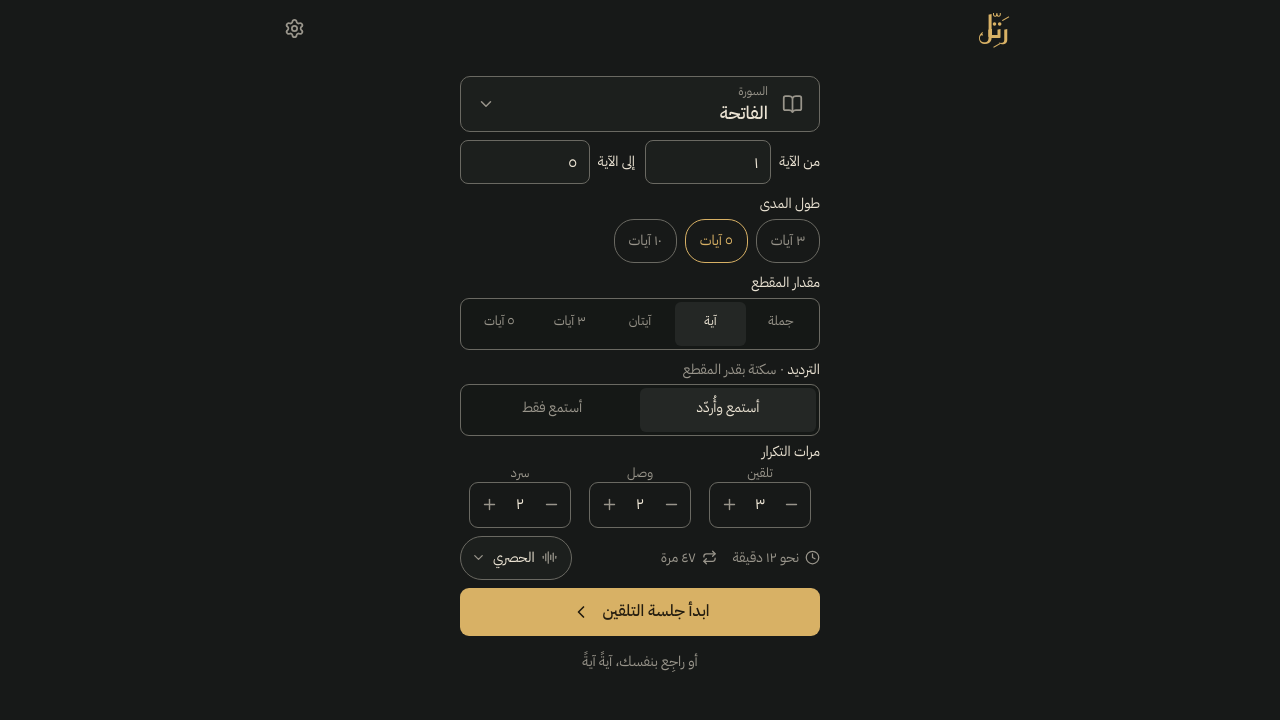
Test: the settings sheet › gives every visible control a name, keeps every id unique, and dims no text
Click the button named "الإعدادات" at (294,28), box [272,6,316,50]
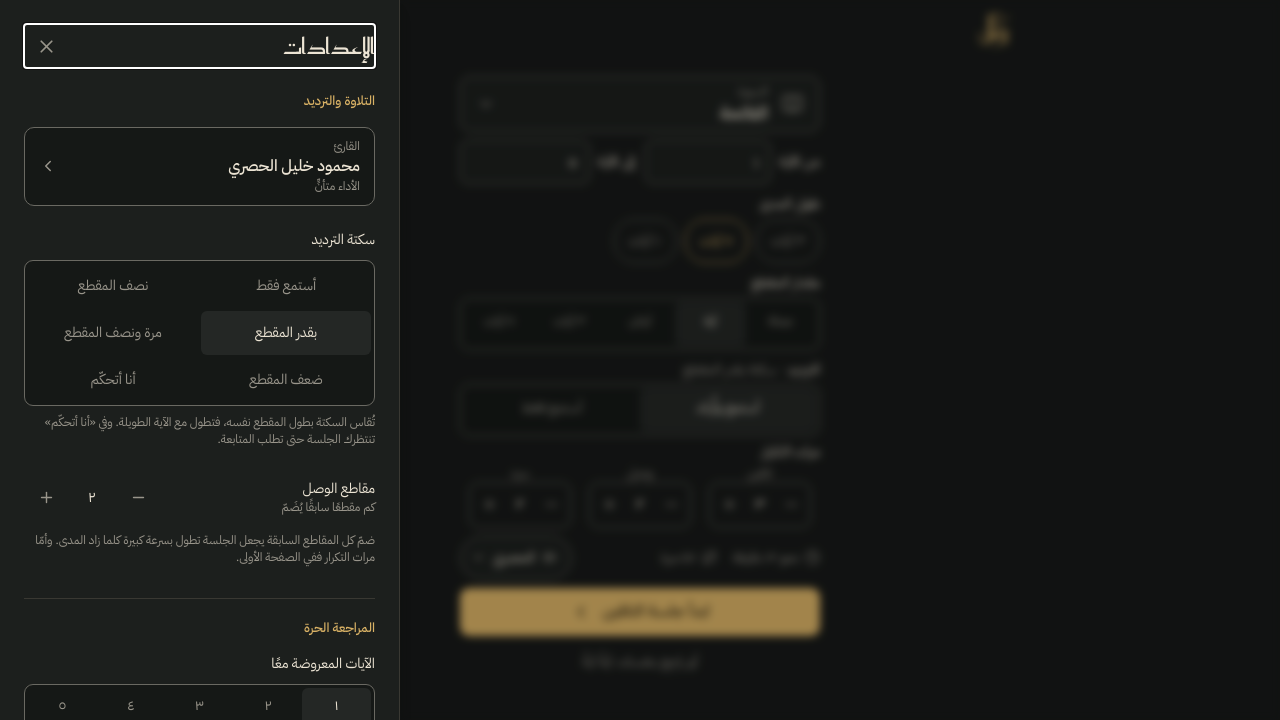
Result: the button "القارئ محمود خليل الحصري الأداء متأنٍّ" is shown at [24,127,375,206]
